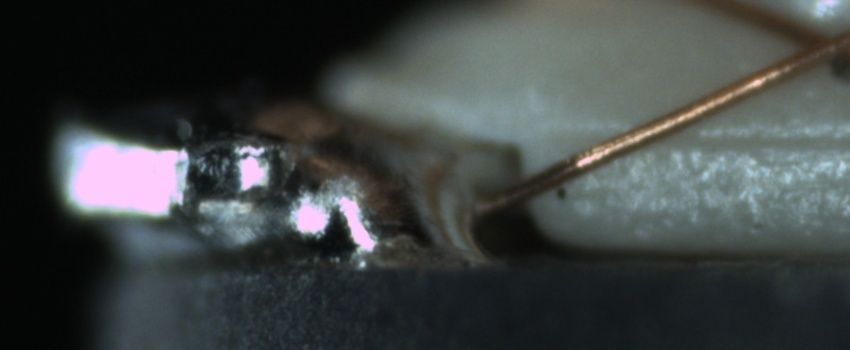CL: (772, 11, 849, 77)
DL: (607, 107, 847, 173)
